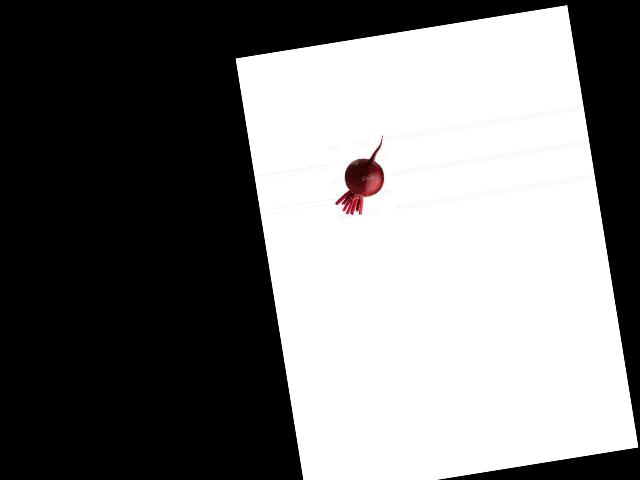beet: (325, 136, 394, 218)
